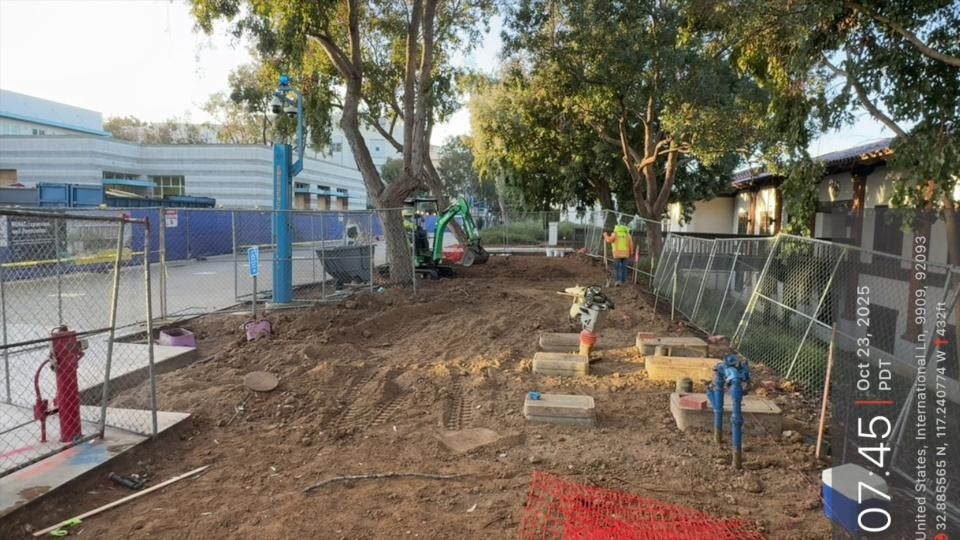Exacavator: (394, 188, 526, 306)
